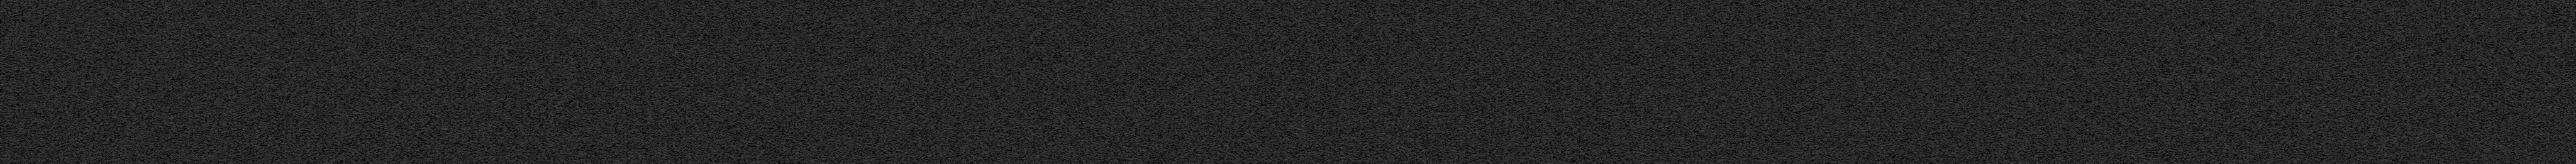wv_cw: (1506, 0, 1510, 164), (1508, 0, 1511, 164), (1071, 0, 1074, 161)
wv_lsb: (1649, 8, 1654, 164), (1457, 113, 1460, 121), (1457, 159, 1460, 164), (1457, 21, 1460, 26), (1457, 75, 1459, 77), (1457, 39, 1459, 41), (1457, 34, 1459, 36)
wv_usb: (1510, 2, 1513, 79), (1510, 138, 1513, 164), (1510, 89, 1513, 100), (1510, 130, 1513, 134), (1511, 108, 1513, 118), (1511, 100, 1513, 107), (1511, 123, 1513, 128), (1511, 118, 1513, 121), (1511, 80, 1513, 84), (1511, 136, 1513, 138), (1511, 85, 1513, 87)
wv_wbfm: (606, 0, 642, 164), (1529, 0, 1566, 164), (1712, 0, 1740, 164)
